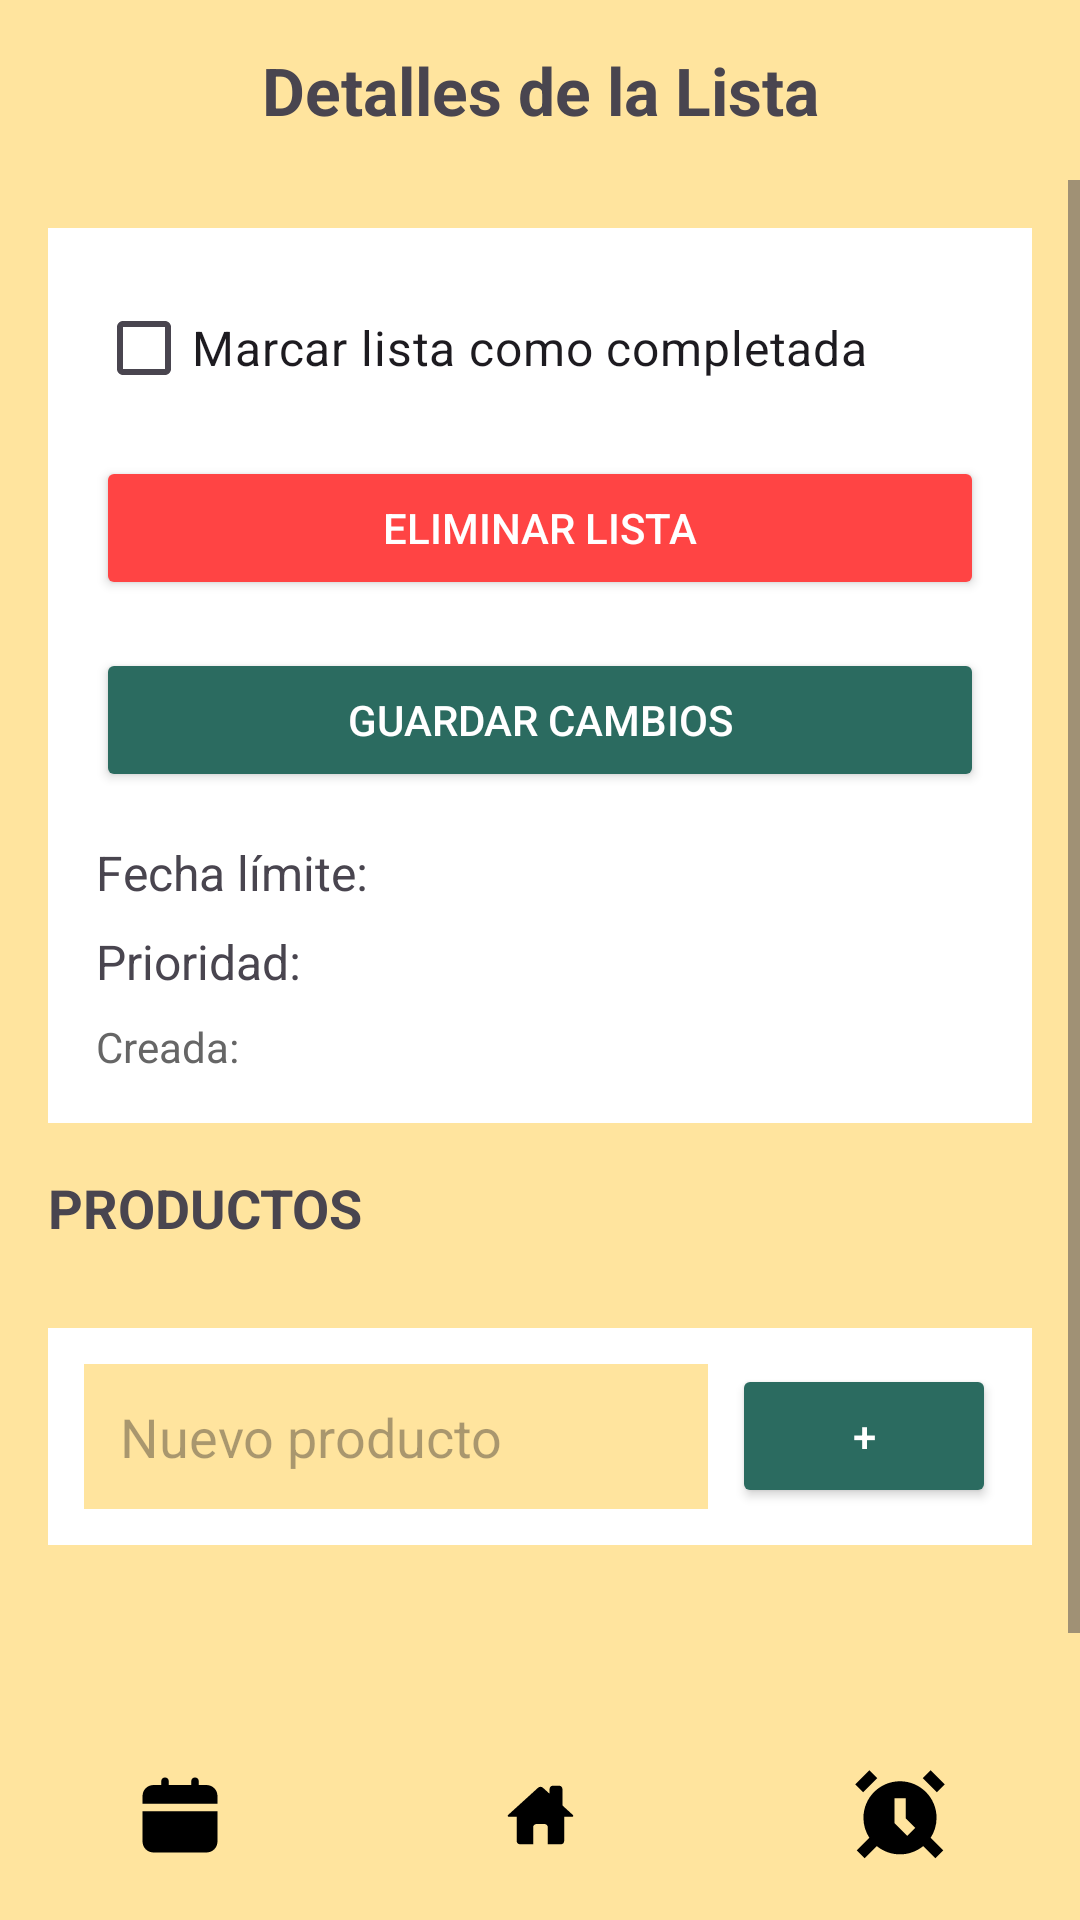

Icons on this 1080×1920 Android screen, each with its box as (left=x1, top=y1, right=x2, bottom=y2):
Alarma: (left=855, top=1770, right=945, bottom=1858)
Calendario: (left=142, top=1777, right=218, bottom=1853)
Inicio: (left=507, top=1785, right=574, bottom=1845)
